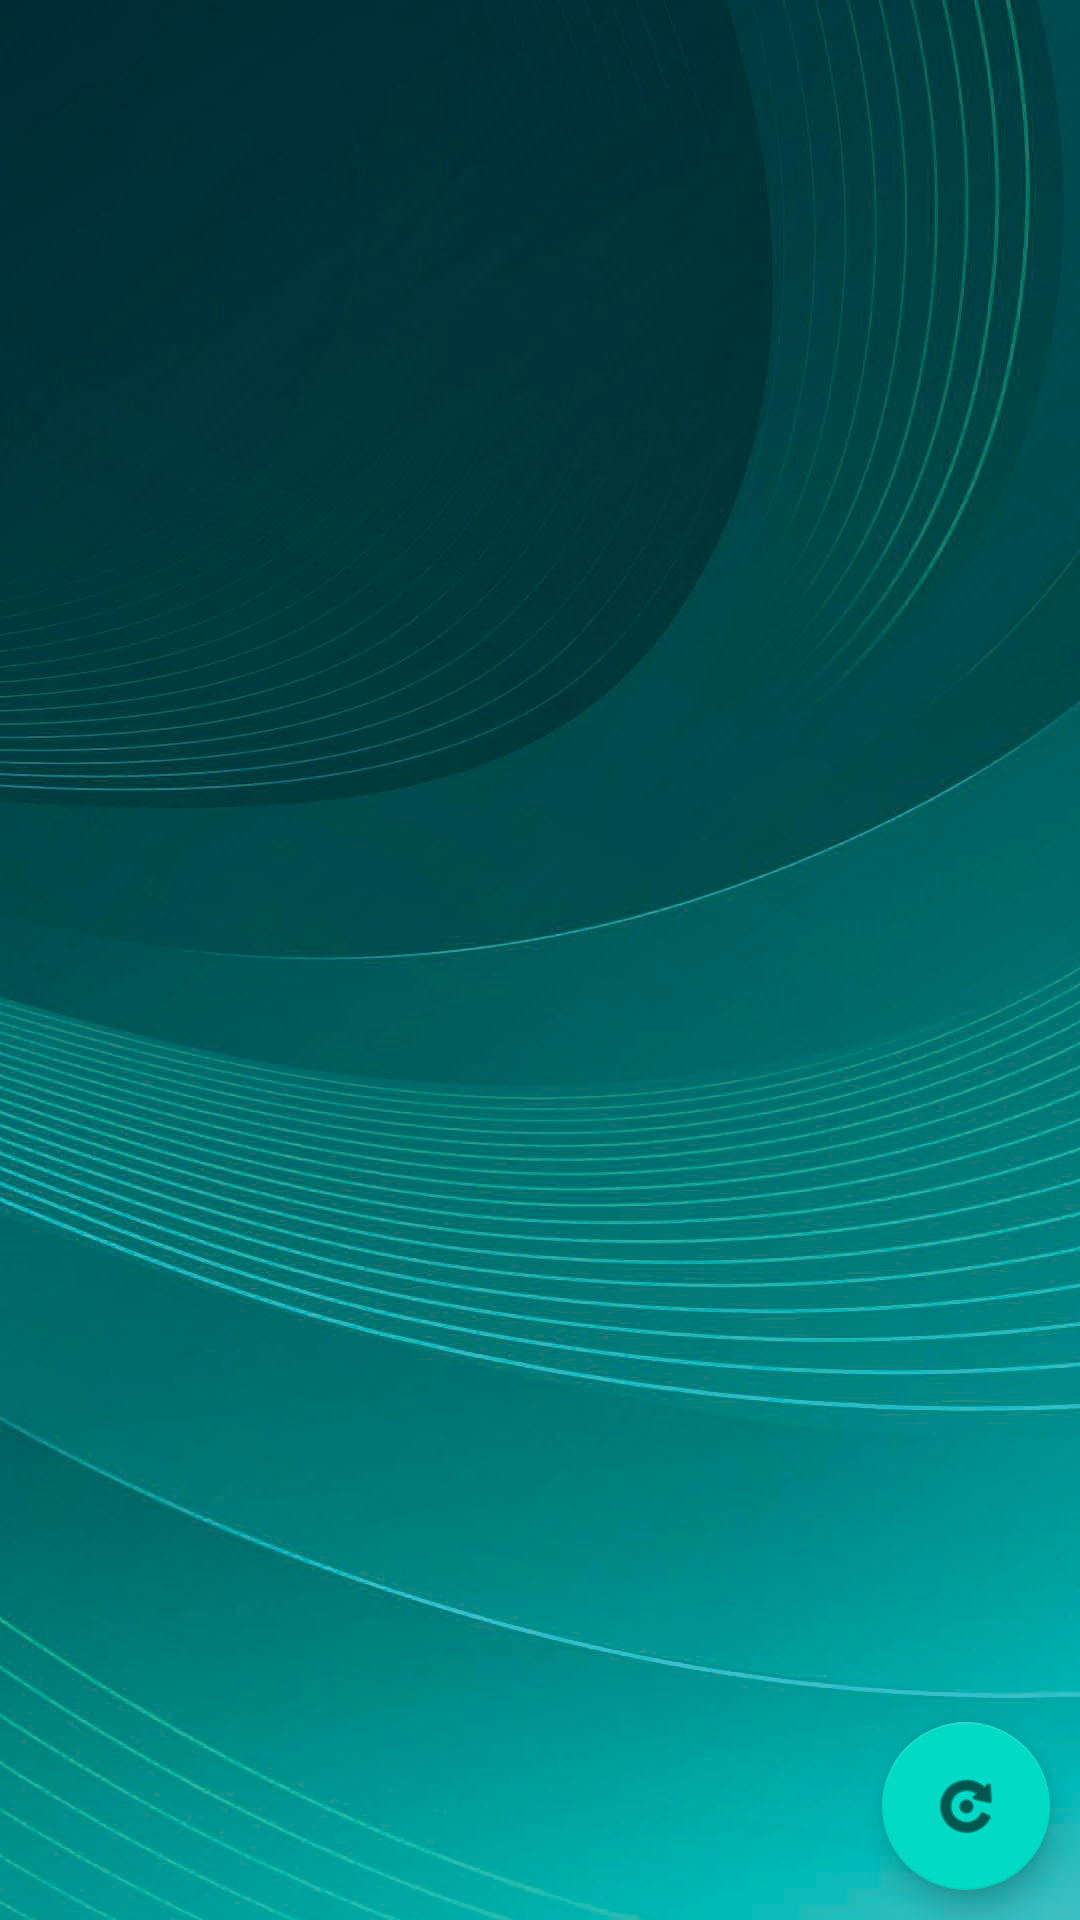

Icons on this 1080×1920 Android screen, each with the point to tap as point (x, y):
rotate: point (966, 1806)
